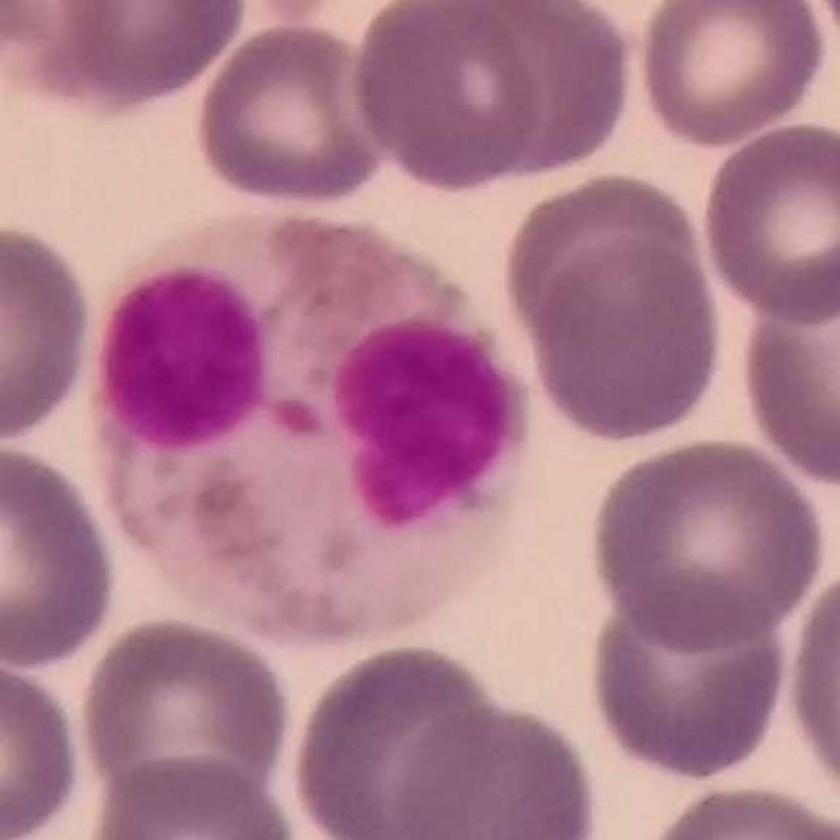eosinophil: (96, 207, 525, 651)
